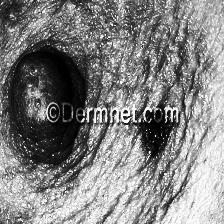Benign Marking or Mole: (10, 50, 84, 163), (140, 107, 170, 153)
